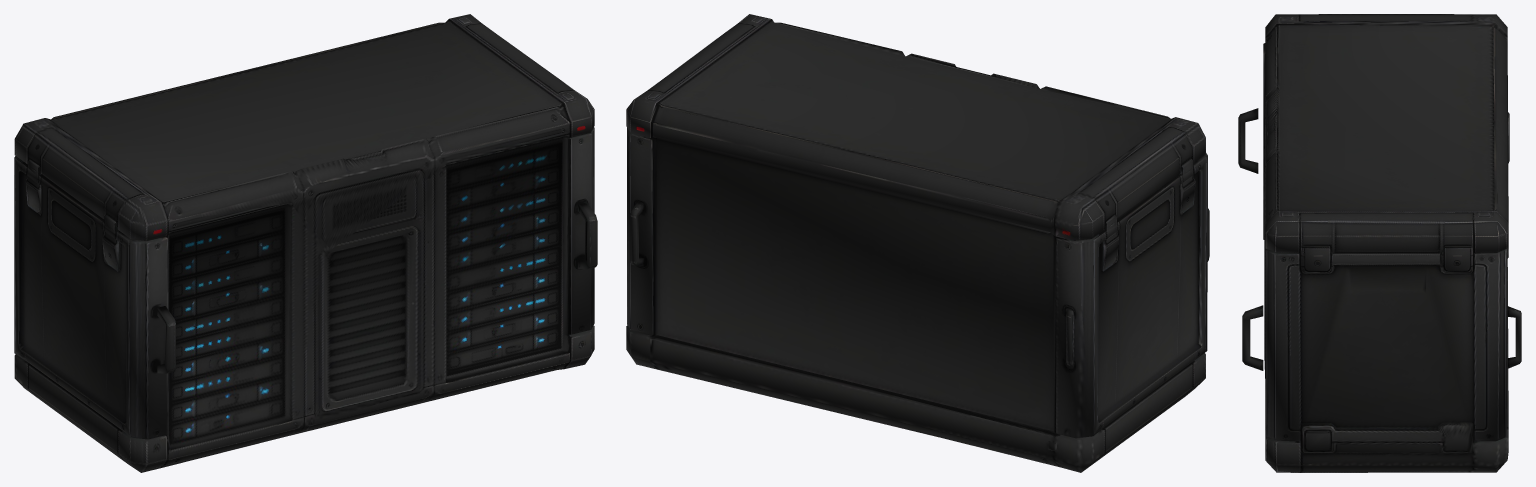
Rendered from ServerRack.fbx.
The picture shows the model from 3 angles, left to right: view 1: azimuth 30°, elevation 25°; view 2: azimuth 150°, elevation 25°; view 3: azimuth 270°, elevation 25°; orthographic projection. The views are drawn at different scales.
Parts seen in each view (by area): view 1: tripo_node_50327600; view 2: tripo_node_50327600; view 3: tripo_node_50327600.
Part boxes in pixels (x1,y1,x2,y2): tripo_node_50327600: (14, 14, 597, 472); tripo_node_50327600: (626, 14, 1209, 472); tripo_node_50327600: (1238, 14, 1521, 472).
Size of the model in its own units: 0.998 by 0.541 by 0.5488.
